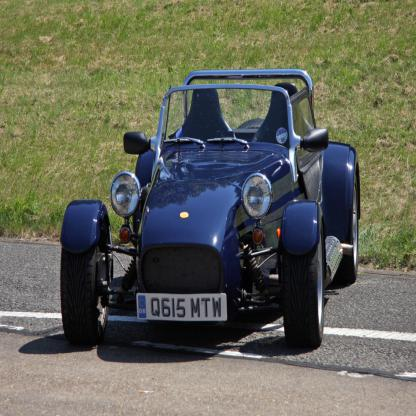car: (60, 72, 361, 351)
